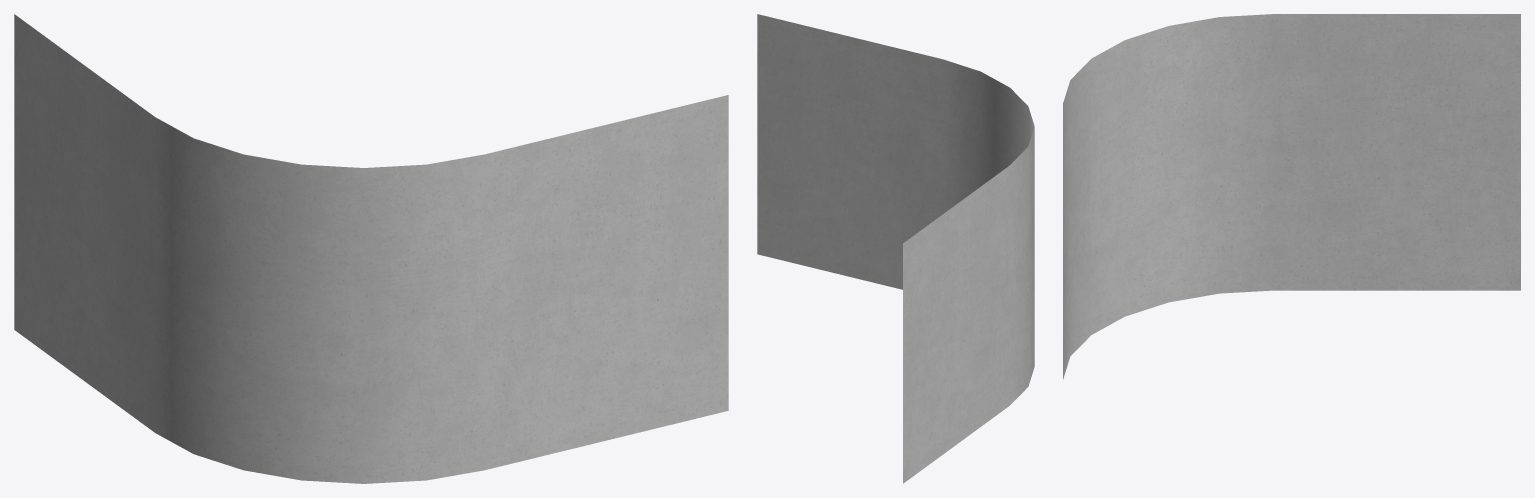
File: MB_Wall_Angle_A_01.fbx
The picture shows the model from 3 angles, left to right: view 1: azimuth 30°, elevation 25°; view 2: azimuth 150°, elevation 25°; view 3: azimuth 270°, elevation 25°; orthographic projection. The views are drawn at different scales.
Visible parts, largest first — view 1: MB_Wall_Angle_A_01; view 2: MB_Wall_Angle_A_01; view 3: MB_Wall_Angle_A_01.
Boxes of the visible parts, bbox=[...] form: MB_Wall_Angle_A_01: bbox=[14, 14, 728, 483]; MB_Wall_Angle_A_01: bbox=[757, 14, 1034, 483]; MB_Wall_Angle_A_01: bbox=[1063, 14, 1520, 379].
Bounding box in the file's own units: 300 × 200 × 300.
